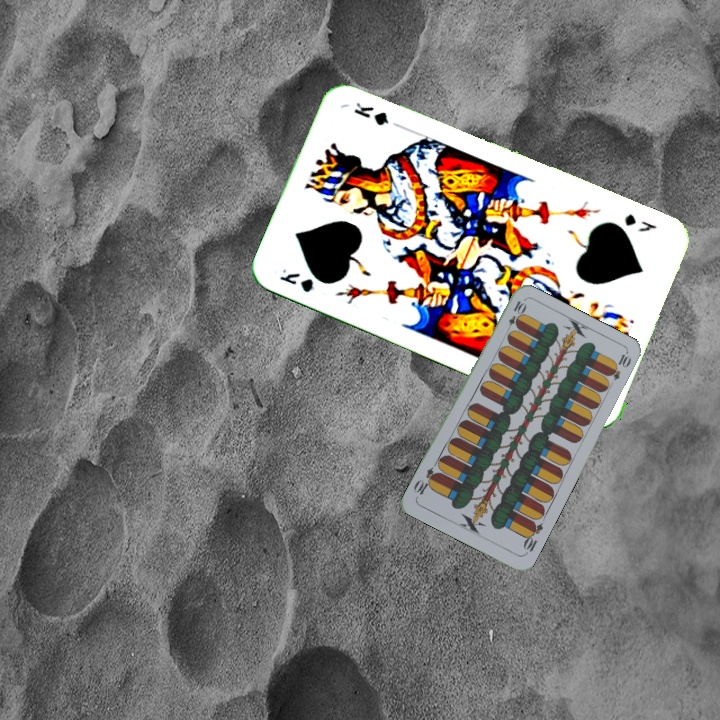E10: (519, 517, 546, 557), (502, 297, 528, 336)
GK: (275, 264, 316, 295), (620, 209, 660, 235)
